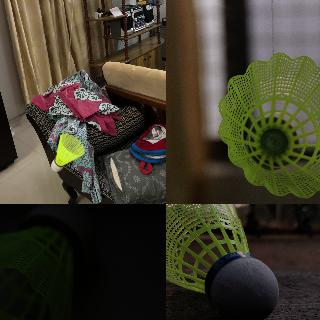shuttlecock: (218, 52, 319, 199), (166, 204, 278, 319), (0, 204, 91, 319), (51, 133, 84, 171)
